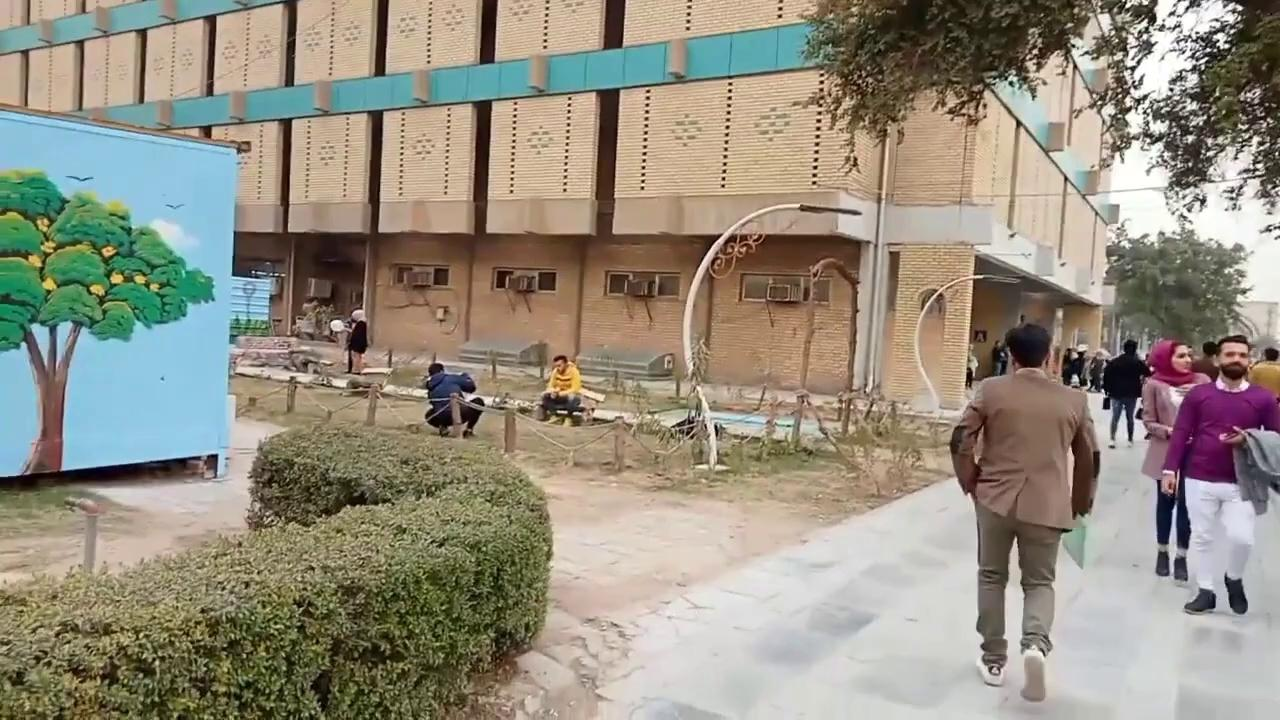person: (949, 322, 1100, 701), (1159, 334, 1279, 615), (1140, 338, 1212, 581), (1102, 338, 1152, 448), (423, 362, 484, 437), (535, 354, 583, 425), (1247, 347, 1279, 400), (345, 309, 367, 374), (965, 343, 978, 389)
tree: (1, 419, 555, 716), (0, 166, 215, 476), (791, 0, 1156, 175), (1073, 0, 1279, 239), (1102, 221, 1255, 357)
